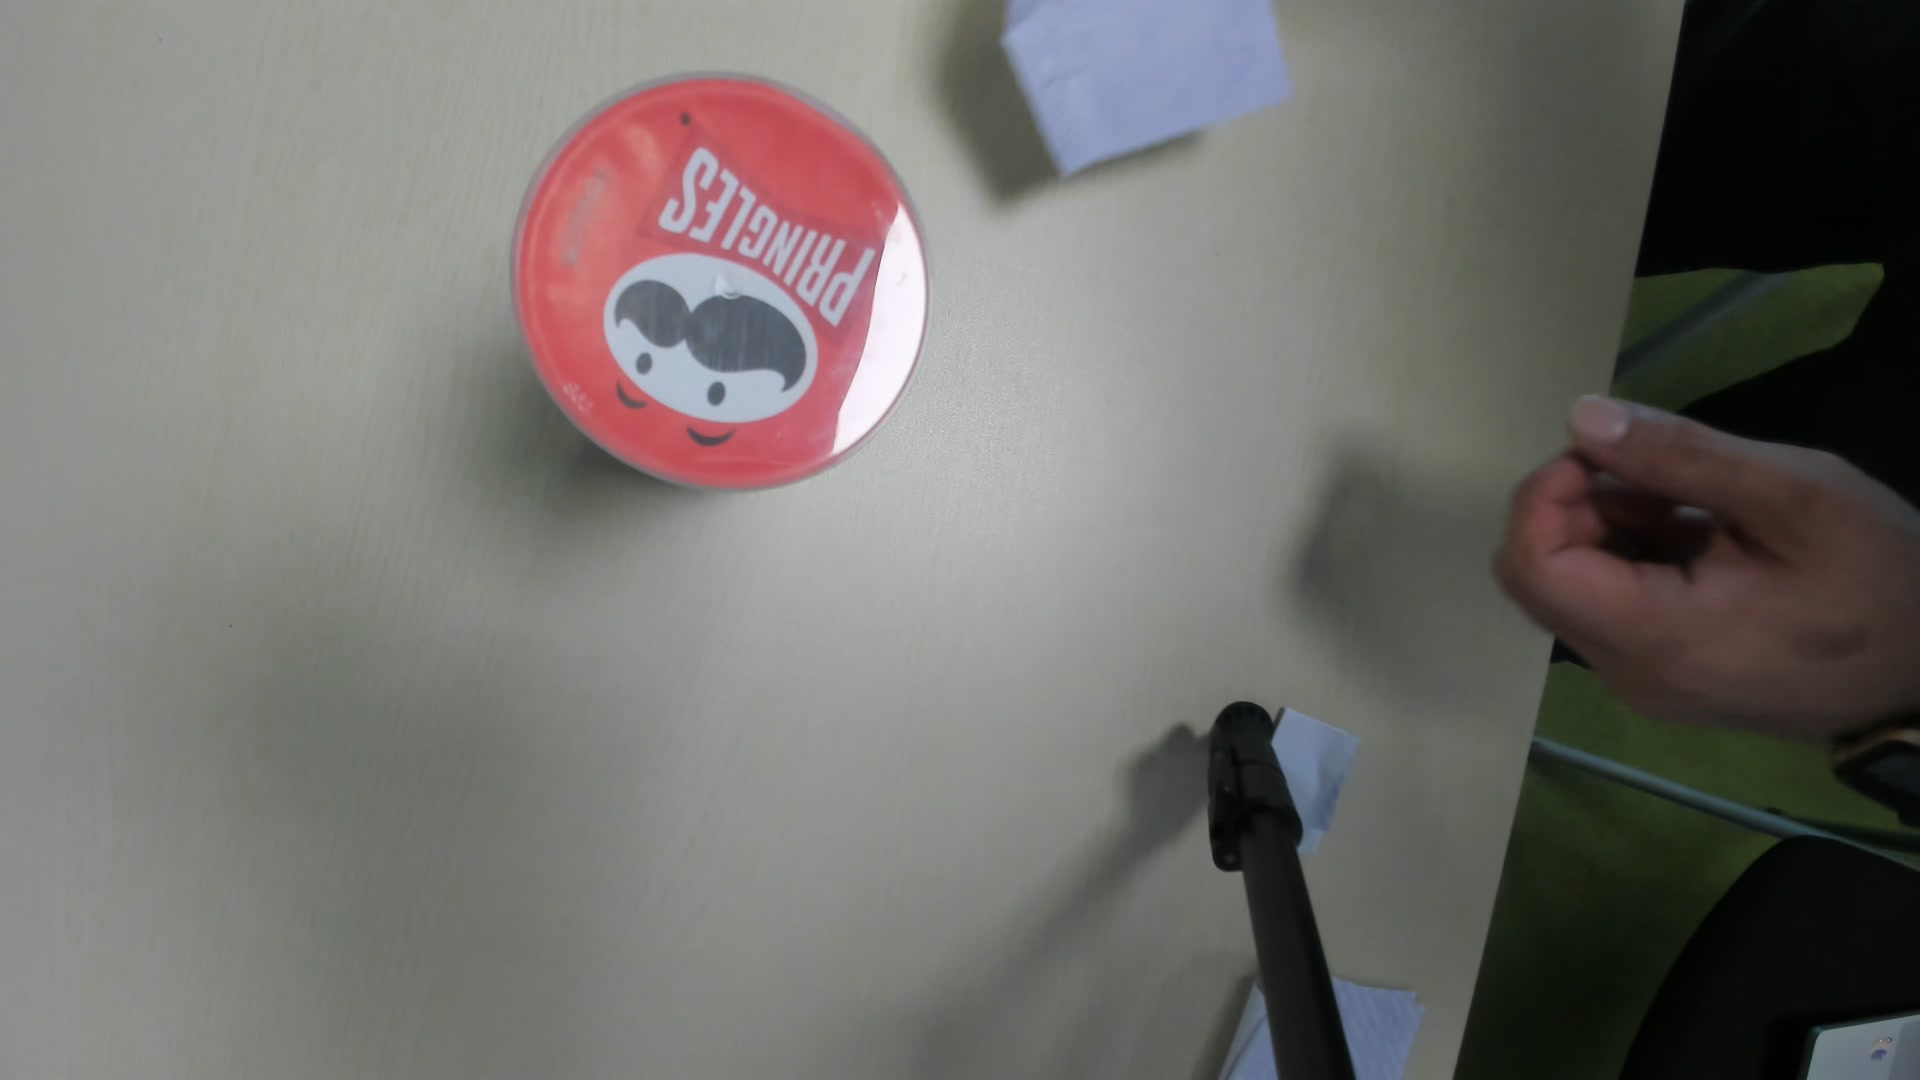PotatoChipsKeropok_0-99g_Halal_NonHealthy: (513, 79, 922, 477)
